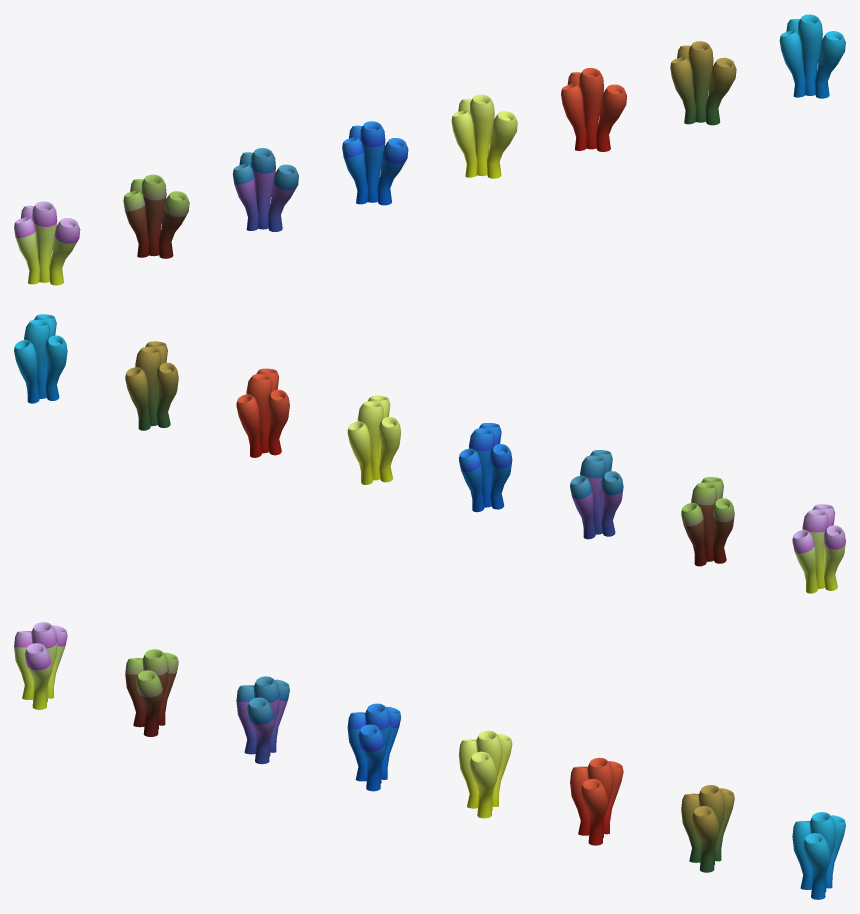
The model's file is Reef_Set1.glb.
3 views of the same model, one above another, from view 1: azimuth 30°, elevation 25°; view 2: azimuth 150°, elevation 25°; view 3: azimuth 330°, elevation 25° (orthographic).
Visible parts, largest first — view 1: A_CoralReef.004, A_CoralReef, A_CoralReef.005, A_CoralReef.001, A_CoralReef.007, A_CoralReef.006, A_CoralReef.003, A_CoralReef.002; view 2: A_CoralReef.004, A_CoralReef.005, A_CoralReef.006, A_CoralReef.007, A_CoralReef.002, A_CoralReef.001, A_CoralReef, A_CoralReef.003; view 3: A_CoralReef.007, A_CoralReef.005, A_CoralReef.004, A_CoralReef, A_CoralReef.006, A_CoralReef.001, A_CoralReef.002, A_CoralReef.003.
Part boxes in pixels (x1,y1,x2,y2): A_CoralReef.004: [670, 41, 736, 125]; A_CoralReef: [342, 121, 408, 205]; A_CoralReef.005: [123, 174, 189, 258]; A_CoralReef.001: [451, 94, 517, 178]; A_CoralReef.007: [232, 148, 298, 231]; A_CoralReef.006: [779, 14, 845, 98]; A_CoralReef.003: [14, 201, 80, 285]; A_CoralReef.002: [561, 68, 627, 151]; A_CoralReef.004: [125, 341, 178, 430]; A_CoralReef.005: [681, 477, 734, 566]; A_CoralReef.006: [14, 314, 67, 403]; A_CoralReef.007: [570, 450, 623, 539]; A_CoralReef.002: [236, 368, 289, 457]; A_CoralReef.001: [347, 395, 400, 484]; A_CoralReef: [459, 423, 512, 512]; A_CoralReef.003: [792, 504, 845, 593]; A_CoralReef.007: [236, 676, 289, 764]; A_CoralReef.005: [125, 649, 178, 736]; A_CoralReef.004: [681, 785, 734, 872]; A_CoralReef: [347, 703, 400, 791]; A_CoralReef.006: [792, 812, 845, 899]; A_CoralReef.001: [458, 730, 512, 818]; A_CoralReef.002: [570, 757, 623, 845]; A_CoralReef.003: [14, 622, 67, 709].
Size of the model in its own units: 7.44 by 0.6518 by 0.6235.
1 material, 1 textured.
